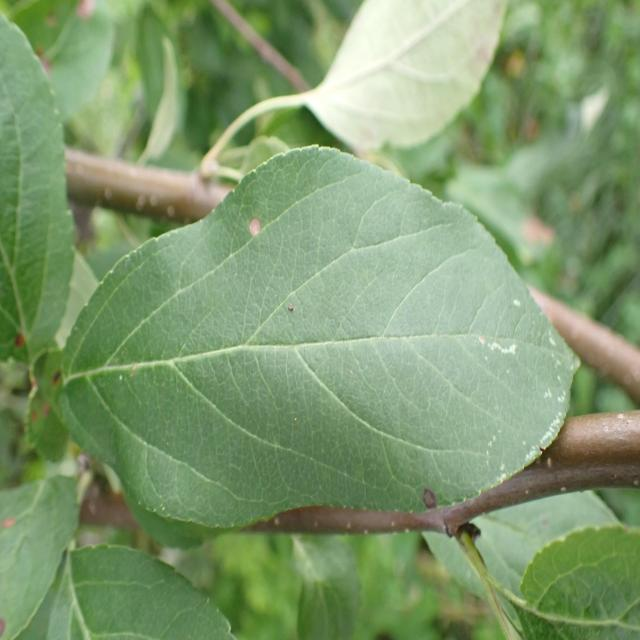Black Rot: (226, 209, 275, 256), (418, 474, 457, 526)
